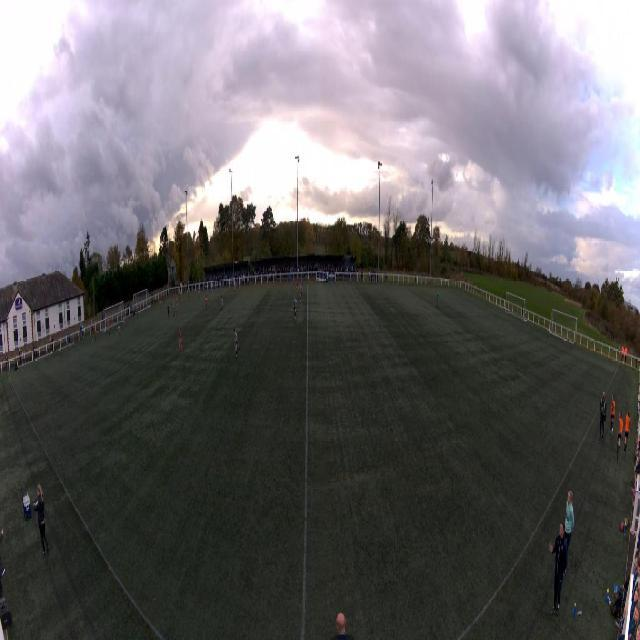ball: (92, 340, 93, 342)
player: (233, 327, 240, 359), (292, 296, 298, 320), (179, 328, 184, 356), (118, 323, 122, 340), (299, 282, 302, 302), (220, 296, 223, 314), (173, 302, 176, 319), (296, 281, 299, 297), (94, 328, 97, 343), (188, 286, 191, 300), (176, 297, 178, 314), (205, 291, 207, 308), (437, 290, 439, 307), (108, 325, 111, 336), (167, 303, 169, 319), (124, 311, 126, 327), (179, 288, 181, 302), (159, 297, 161, 311), (235, 280, 237, 294), (107, 318, 109, 330), (172, 294, 174, 303), (199, 287, 200, 299)
